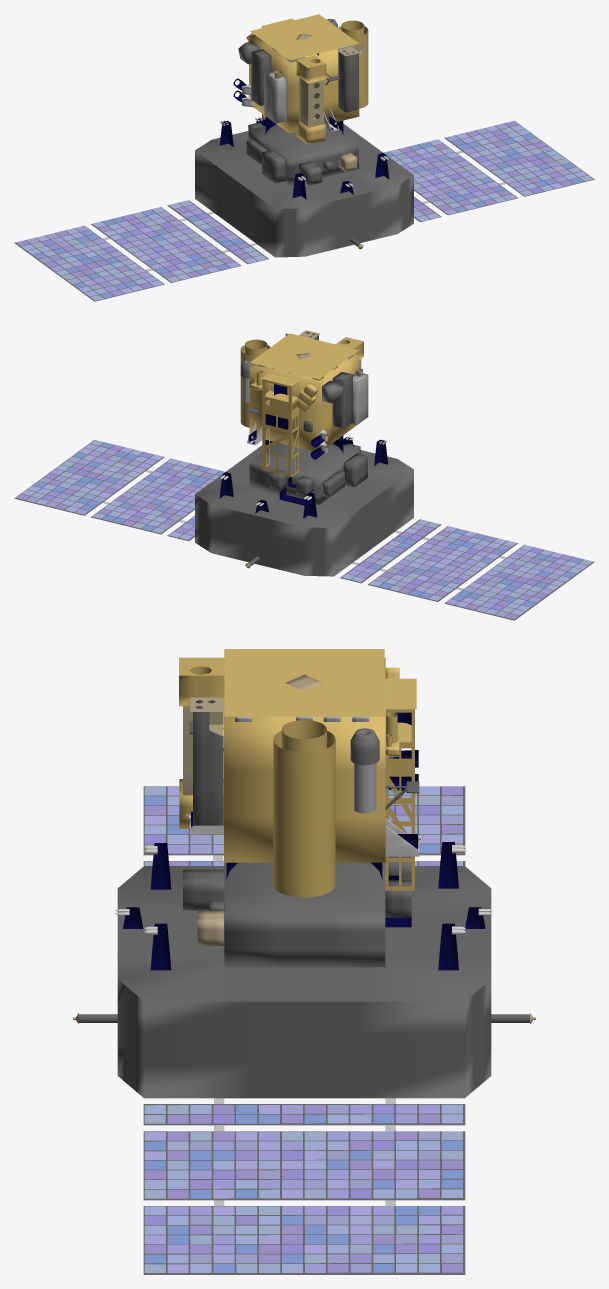
Rendered from soho.glb.
3 views of the same model, one above another, from view 1: azimuth 30°, elevation 25°; view 2: azimuth 150°, elevation 25°; view 3: azimuth 270°, elevation 25° (orthographic). The views are drawn at different scales.
Visible parts, largest first — view 1: Fake; view 2: Fake; view 3: Fake.
Boxes of the visible parts, x1,y1,x2,y2 form: Fake: [14, 14, 594, 301]; Fake: [14, 330, 594, 620]; Fake: [73, 649, 535, 1274].
Bounding box in the file's own units: 43.27 × 14.43 × 17.34.
